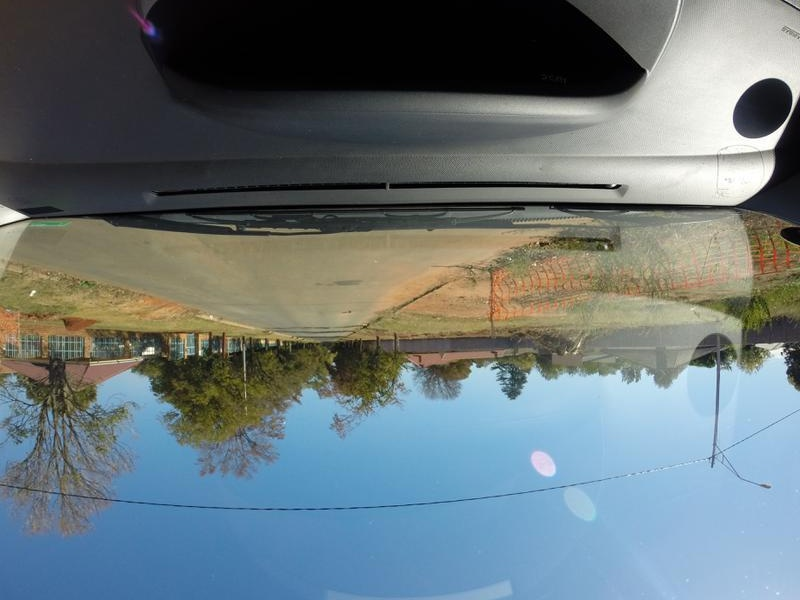pothole: (332, 297, 355, 320)
